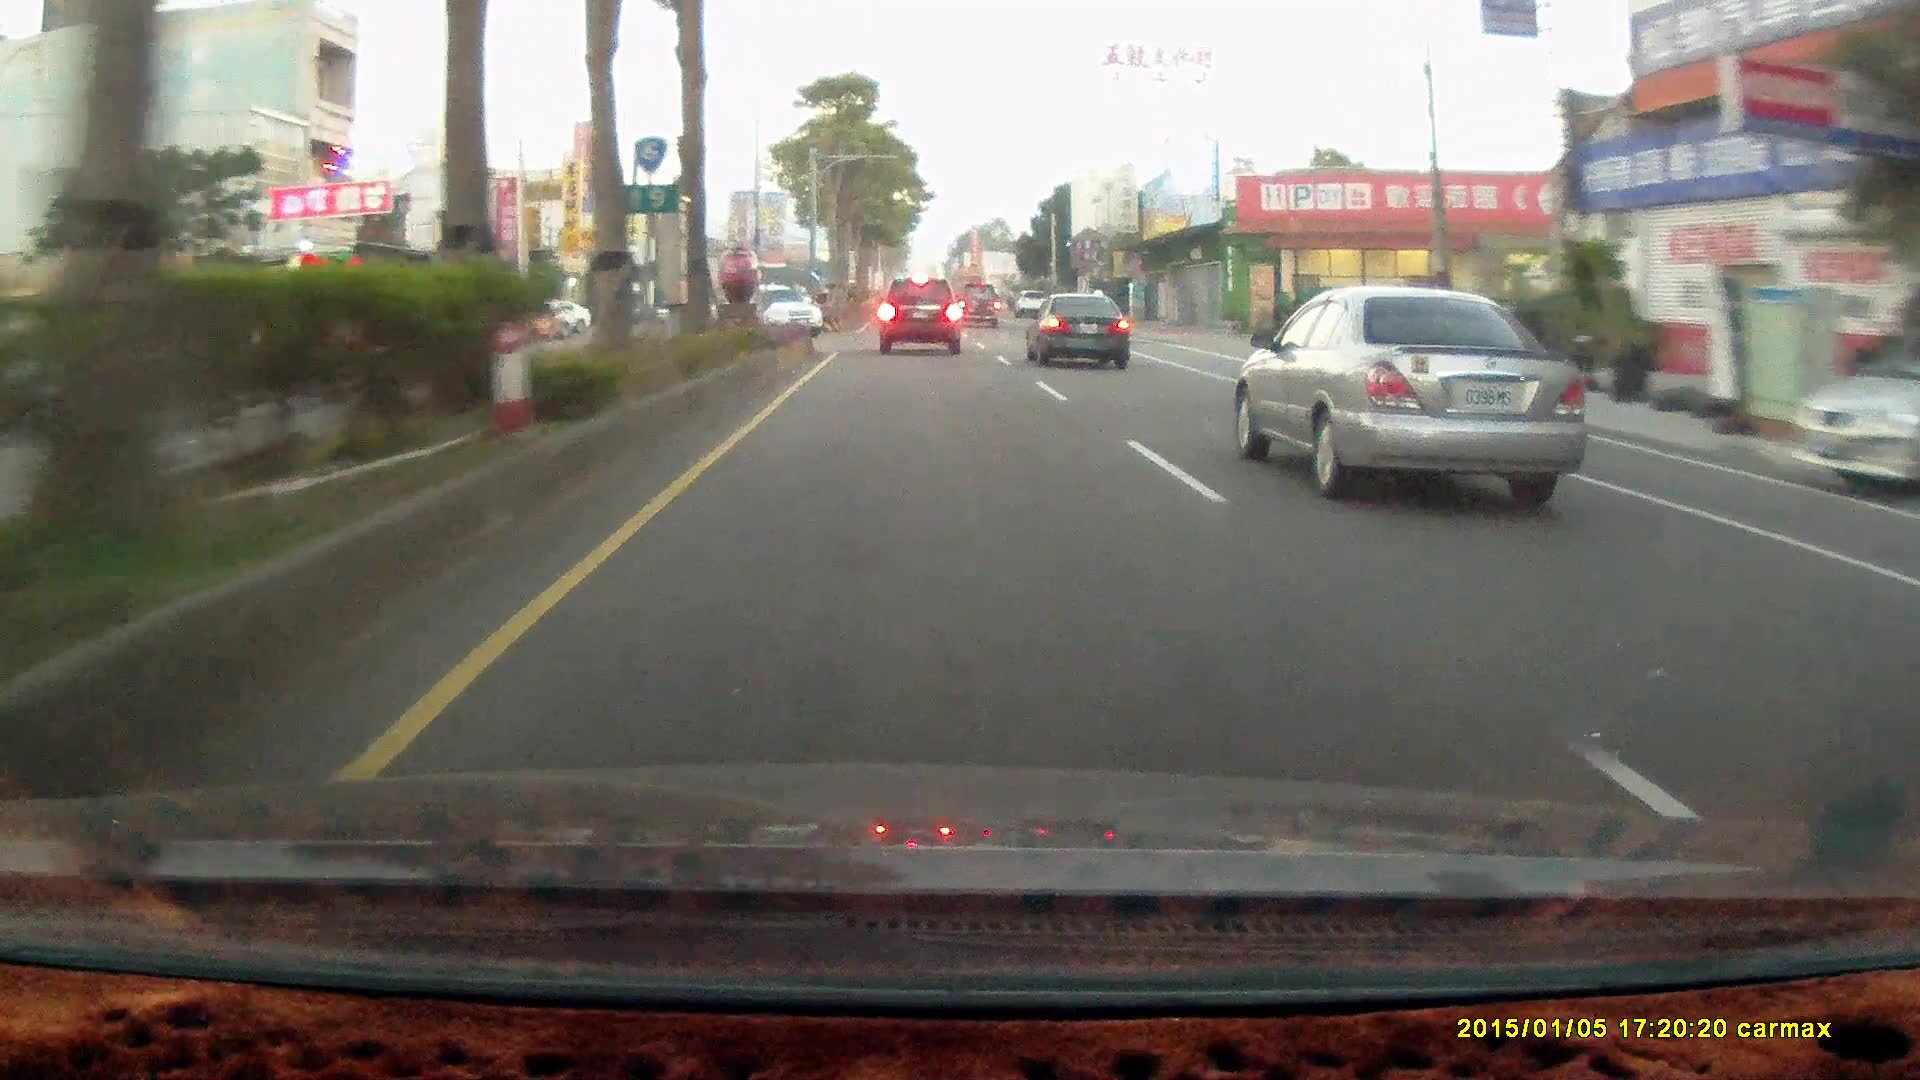vehicle: (1238, 287, 1582, 504), (1782, 313, 1920, 504), (1787, 313, 1920, 504), (1025, 290, 1135, 371), (1023, 287, 1127, 364), (880, 273, 967, 357), (877, 273, 957, 349), (754, 280, 823, 338), (758, 284, 825, 342), (953, 278, 1001, 328)
